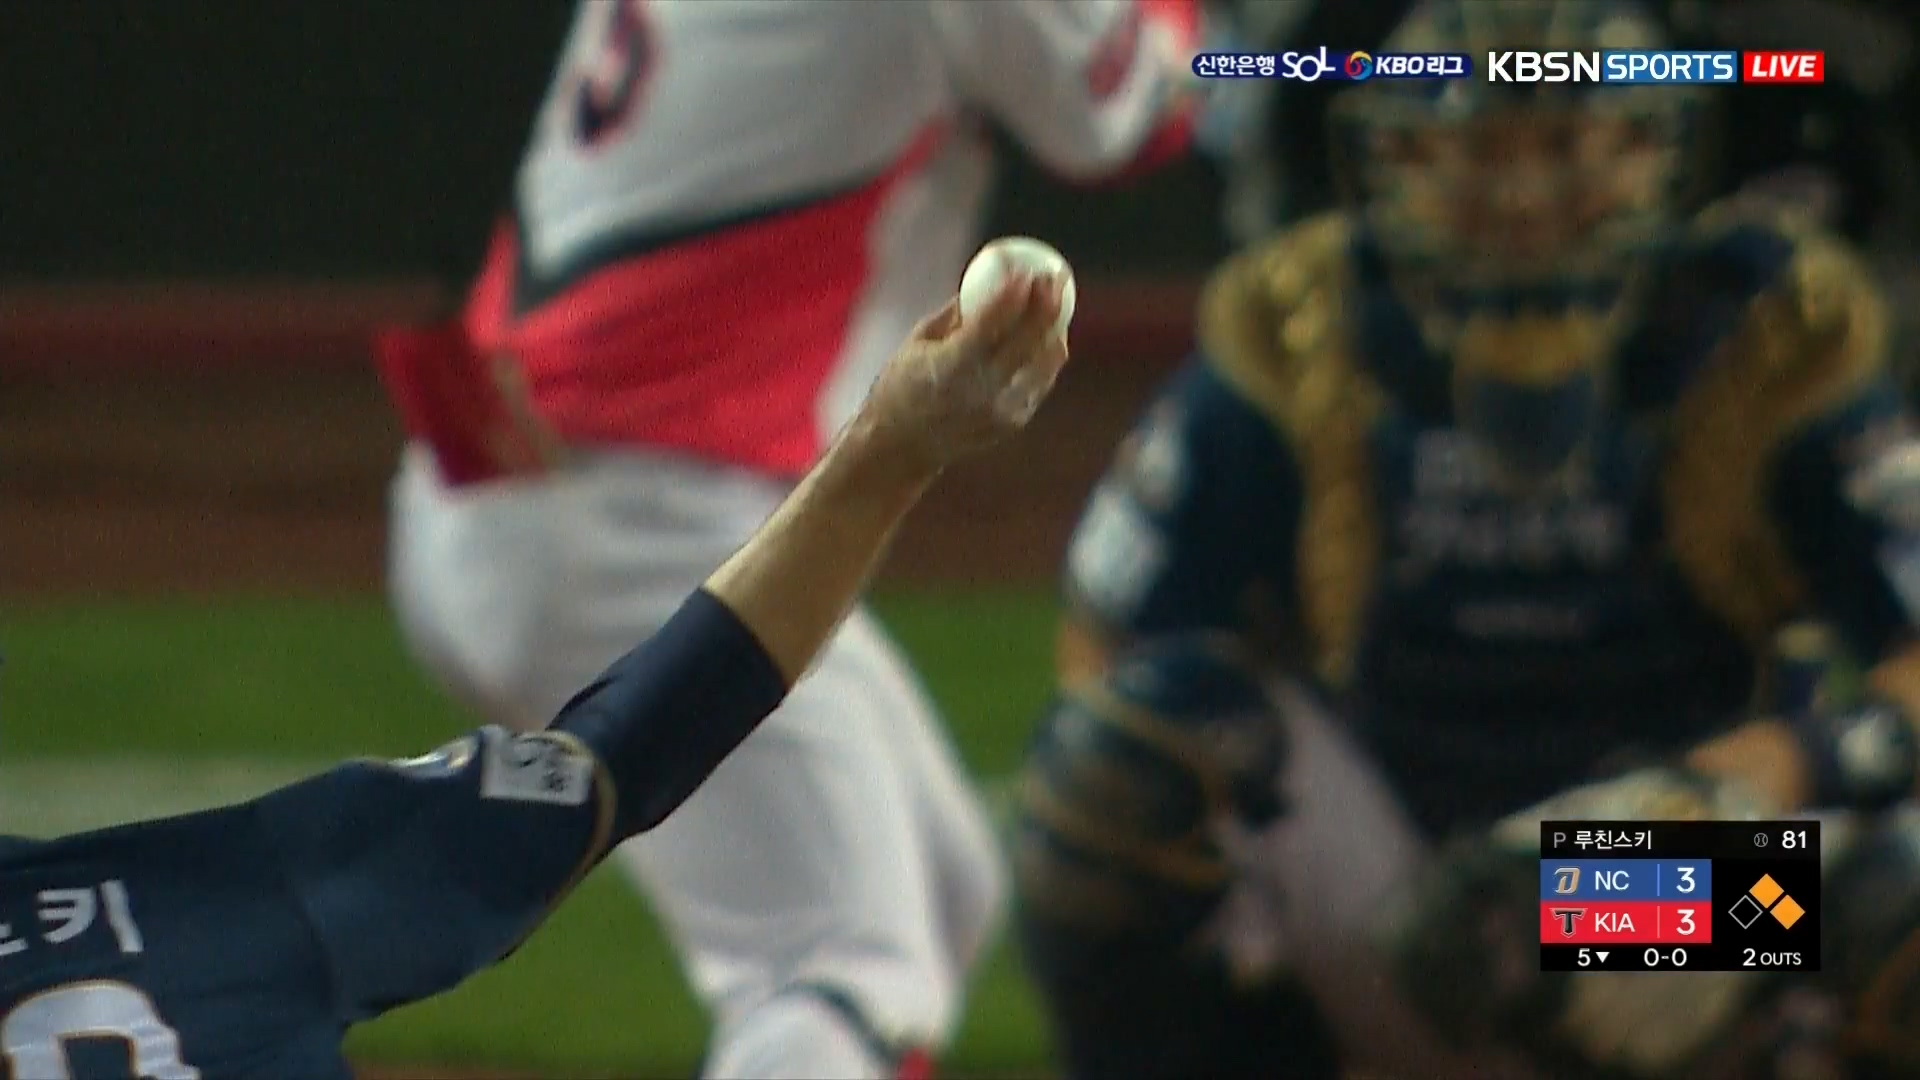zoomin_hand: (605, 227, 1083, 837)
